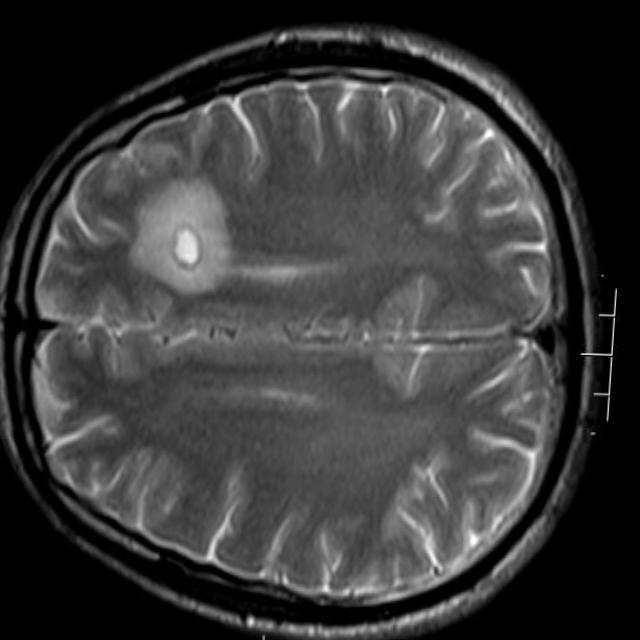Tumor: (125, 173, 229, 297)
